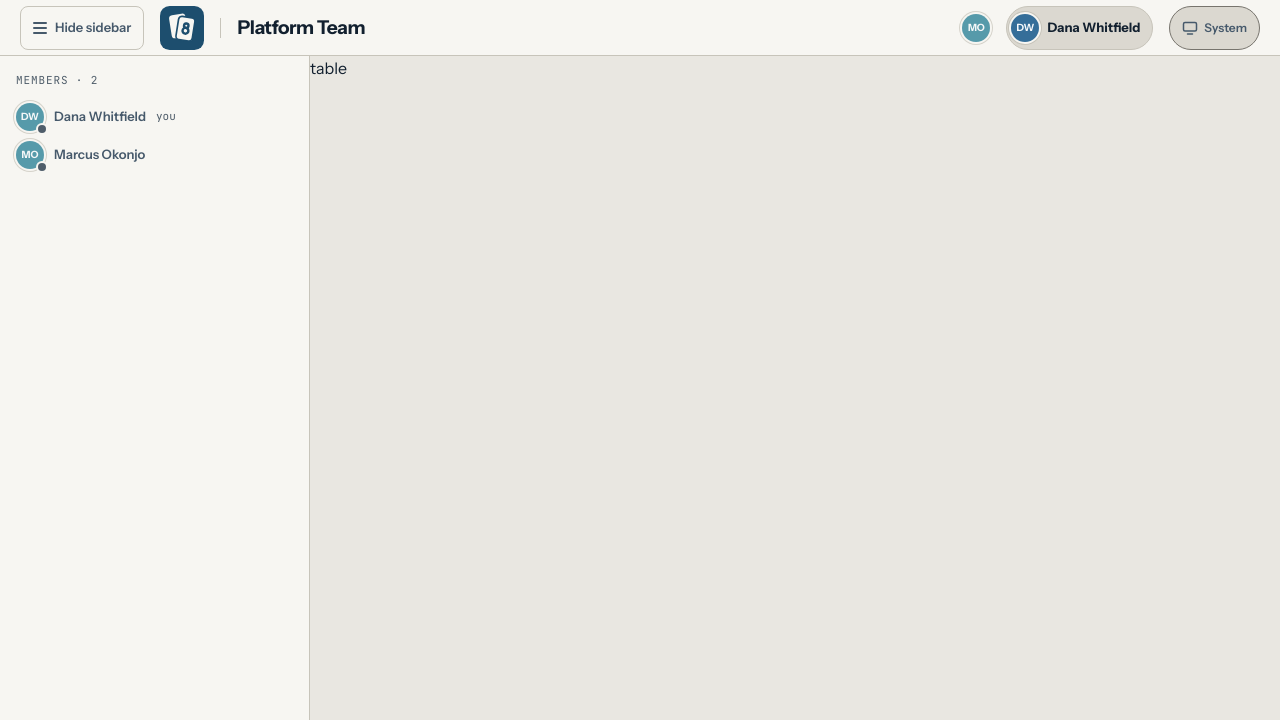
Test case: AppShell › opens a member card from the stack and closes it again
The image size is (1280, 720).
Click the button with aria-label "Marcus Okonjo": (976, 28) [962, 13, 990, 42]
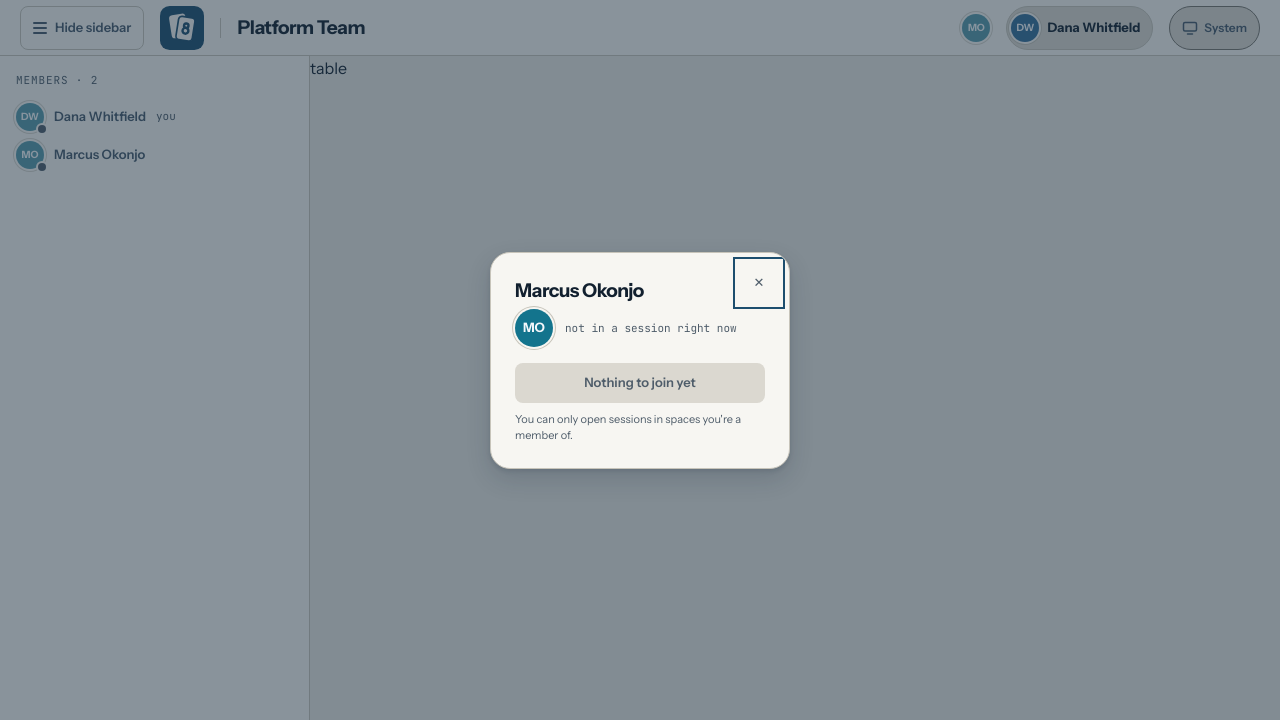
Now the dialog "Marcus Okonjo" is shown, box [490, 252, 790, 468]
Click the button named "Close": (759, 282) [737, 260, 781, 304]
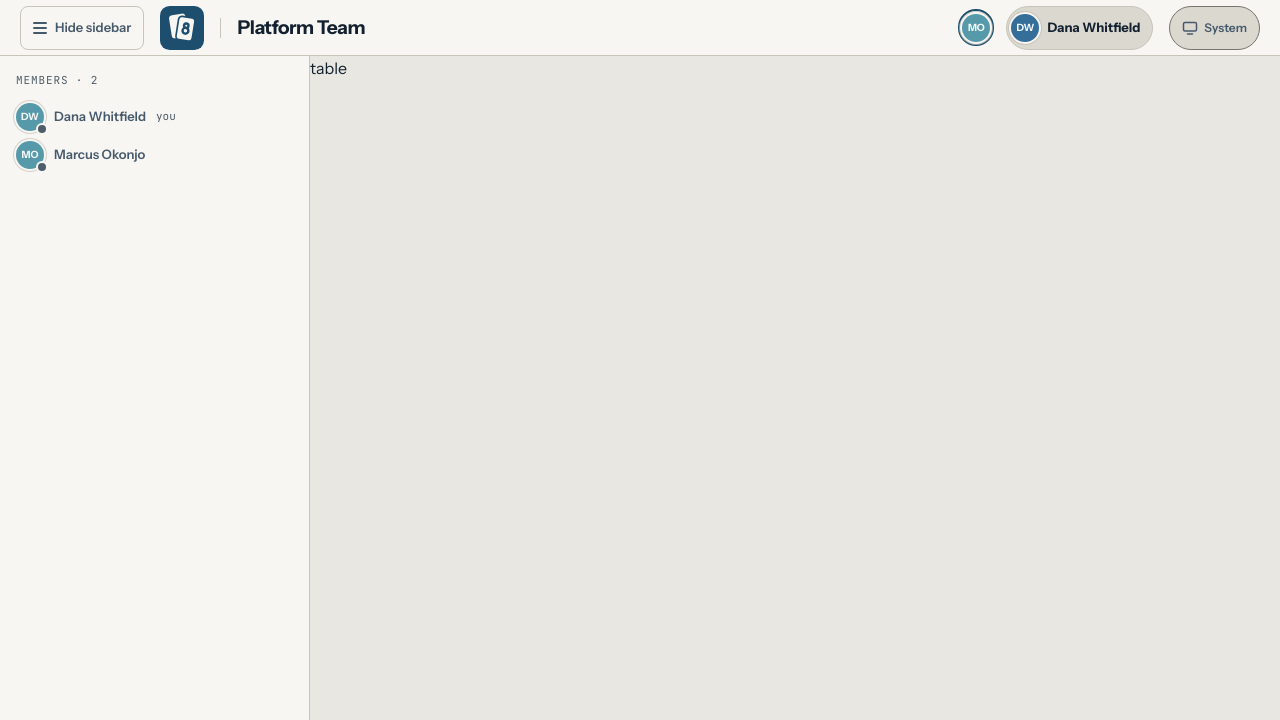
Now the dialog is gone
